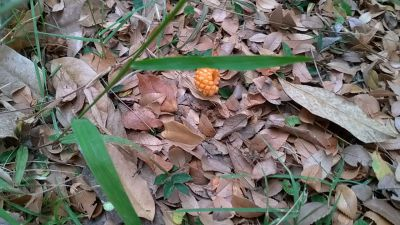eggs: (194, 64, 220, 96)
